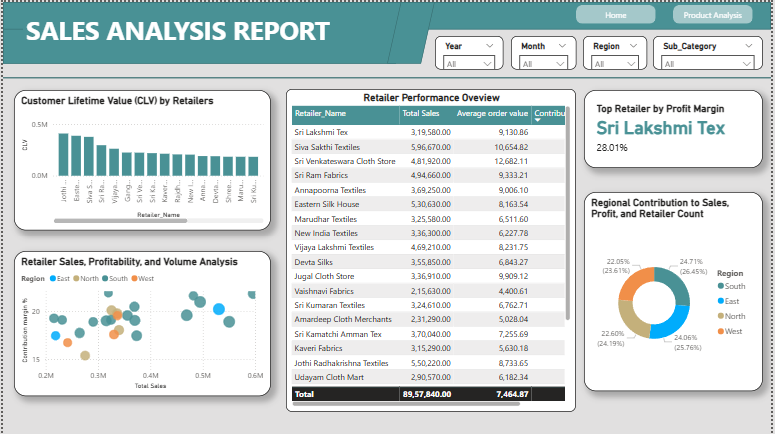

The dashboard page shown, as its layout file describes it:
{"tool":"powerbi","page":{"name":"Retalier Analytics","canvas":[1280,720],"ordinal":2},"visuals":[{"type":"shape","box":[0,0,654.7,103.2],"z":0},{"type":"shape","box":[0,0,1280,45.7],"z":1000},{"type":"textbox","box":[32.6,11.3,622.3,68],"z":2000},{"type":"shape","box":[640,0,79.6,103.2],"z":3000},{"type":"slicer","fields":{"Values":["Date Table.Month"]},"box":[847.1,57.1,108.6,55.7],"z":4000},{"type":"slicer","fields":{"Values":["Date Table.Year"]},"box":[720,57.1,114.3,55.7],"z":5000},{"type":"shape","box":[0,113.5,1280,26],"z":6000},{"type":"slicer","fields":{"Values":["Region.Region"]},"box":[967.1,57.1,107.1,55.7],"z":7000},{"type":"slicer","fields":{"Values":["Product.Sub_Category"]},"box":[1082.9,57.1,182.9,55.7],"z":8000},{"type":"clusteredColumnChart","title":"Customer Lifetime Value (CLV) by Retailers","fields":{"Category":["Retailer.Retailer_Name"],"Y":["KPI's.CLV"]},"box":[18.4,146,428.1,233.9],"z":9000},{"type":"scatterChart","title":"Retailer Sales, Profitability, and Volume Analysis","fields":{"X":["Base Measure.Total Sales"],"Y":["KPI's.Contribution margin %"],"Size":["Base Measure.Total Qtn Sold"],"Category":["Retailer.Retailer_Name"],"Series":["Region.Region"]},"box":[18.4,415.3,428.1,242.4],"z":10000},{"type":"tableEx","title":"Retailer Performance Oveview","fields":{"Values":["Retailer.Retailer_Name","Base Measure.Total Sales","KPI Measures.Average order value","KPI's.Contribution margin %"]},"box":[471.7,145,483.3,538.3],"z":11000},{"type":"donutChart","title":"Regional Contribution to Sales, Profit, and Retailer Count","fields":{"Y":["Base Measure.Profit %"],"Category":["Region.Region"]},"box":[968.2,316.1,297.7,331.7],"z":12000},{"type":"multiRowCard","title":"Top Retailer by Profit Margin","fields":{"Values":["KPI Measures.Top 1 Retailer Name","KPI Measures.Top 1 Retailer Profit %"]},"box":[968.2,146,297.7,130.4],"z":13000},{"type":"actionButton","box":[954.3,5.7,132.9,31.4],"z":14000},{"type":"actionButton","box":[1117.1,4.3,132.9,31.4],"z":15000}]}

Visuals, with their boxes in screenshot pixels (x1, y1, x2, y2), scaled from the page's 1280x720 canvas onto the 775x434 screenshot:
shape: crop(0, 0, 396, 62)
shape: crop(0, 0, 774, 28)
textbox: crop(20, 7, 397, 48)
shape: crop(388, 0, 436, 62)
slicer - Date Table.Month: crop(513, 34, 579, 68)
slicer - Date Table.Year: crop(436, 34, 505, 68)
shape: crop(0, 68, 774, 84)
slicer - Region.Region: crop(586, 34, 650, 68)
slicer - Product.Sub_Category: crop(656, 34, 766, 68)
"Customer Lifetime Value (CLV) by Retailers" clusteredColumnChart: crop(11, 88, 270, 229)
"Retailer Sales, Profitability, and Volume Analysis" scatterChart: crop(11, 250, 270, 396)
"Retailer Performance Oveview" tableEx: crop(286, 87, 578, 412)
"Regional Contribution to Sales, Profit, and Retailer Count" donutChart: crop(586, 191, 766, 390)
"Top Retailer by Profit Margin" multiRowCard: crop(586, 88, 766, 167)
actionButton: crop(578, 3, 658, 22)
actionButton: crop(676, 3, 757, 22)
